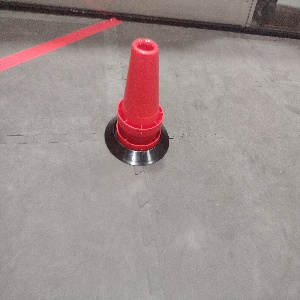Red_2: (115, 36, 164, 151)
